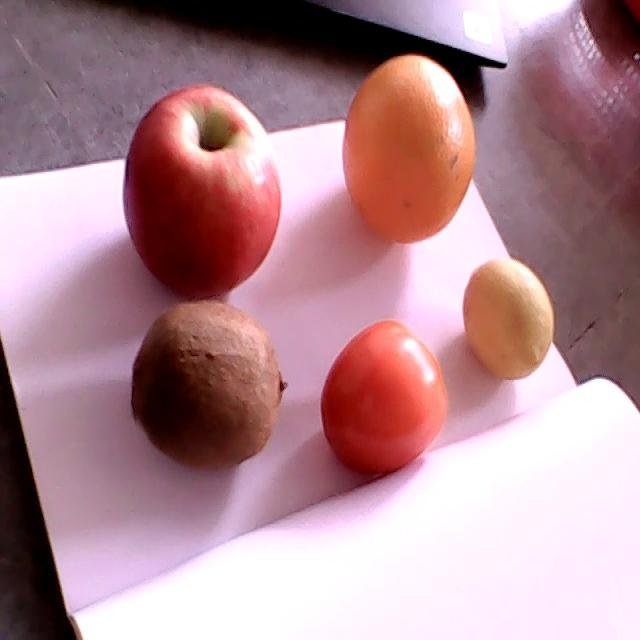apple: (124, 86, 281, 303)
kiwi: (131, 300, 287, 468)
lemon: (462, 259, 554, 379)
orange: (343, 55, 475, 242)
tomato: (321, 320, 449, 474)
